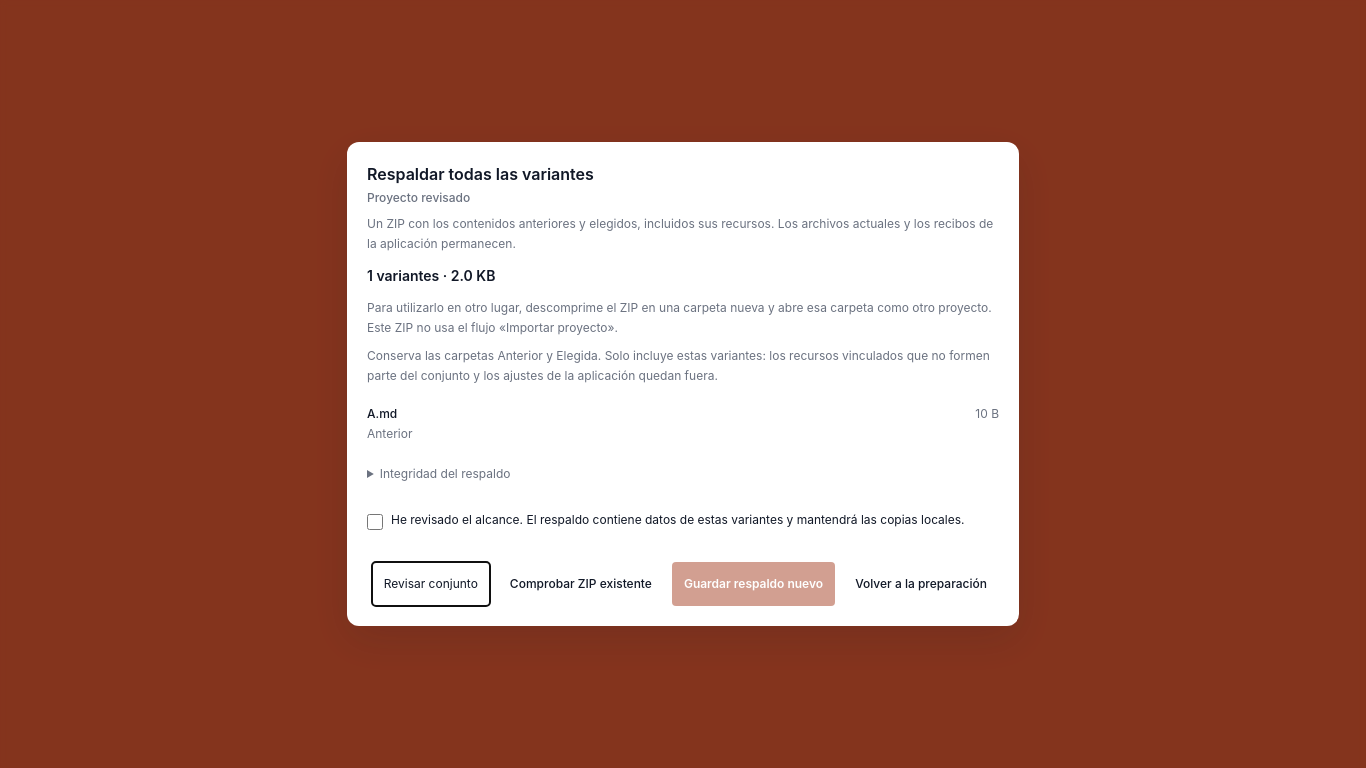
Test: requires scope acknowledgement, explains portability and verifies an uncertain export explicitly
Expected: the text "A.md" is shown, left=367, top=406, right=397, bottom=421
Expected: the text "Proyecto revisado" is shown, left=367, top=190, right=470, bottom=205
Click the checkbox.
click(375, 522)  # box left=367, top=514, right=383, bottom=530
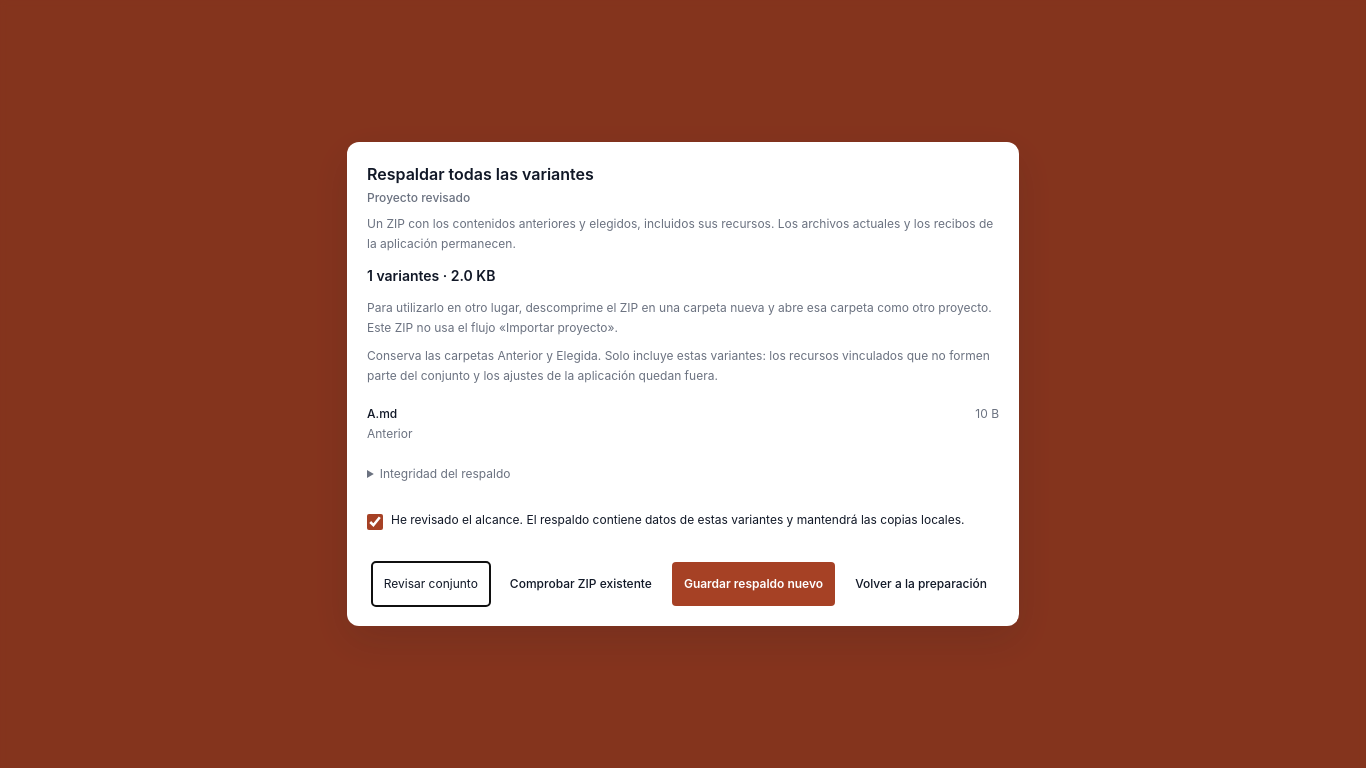
Click the button "Guardar respaldo nuevo".
click(754, 584)  # box left=672, top=562, right=835, bottom=606
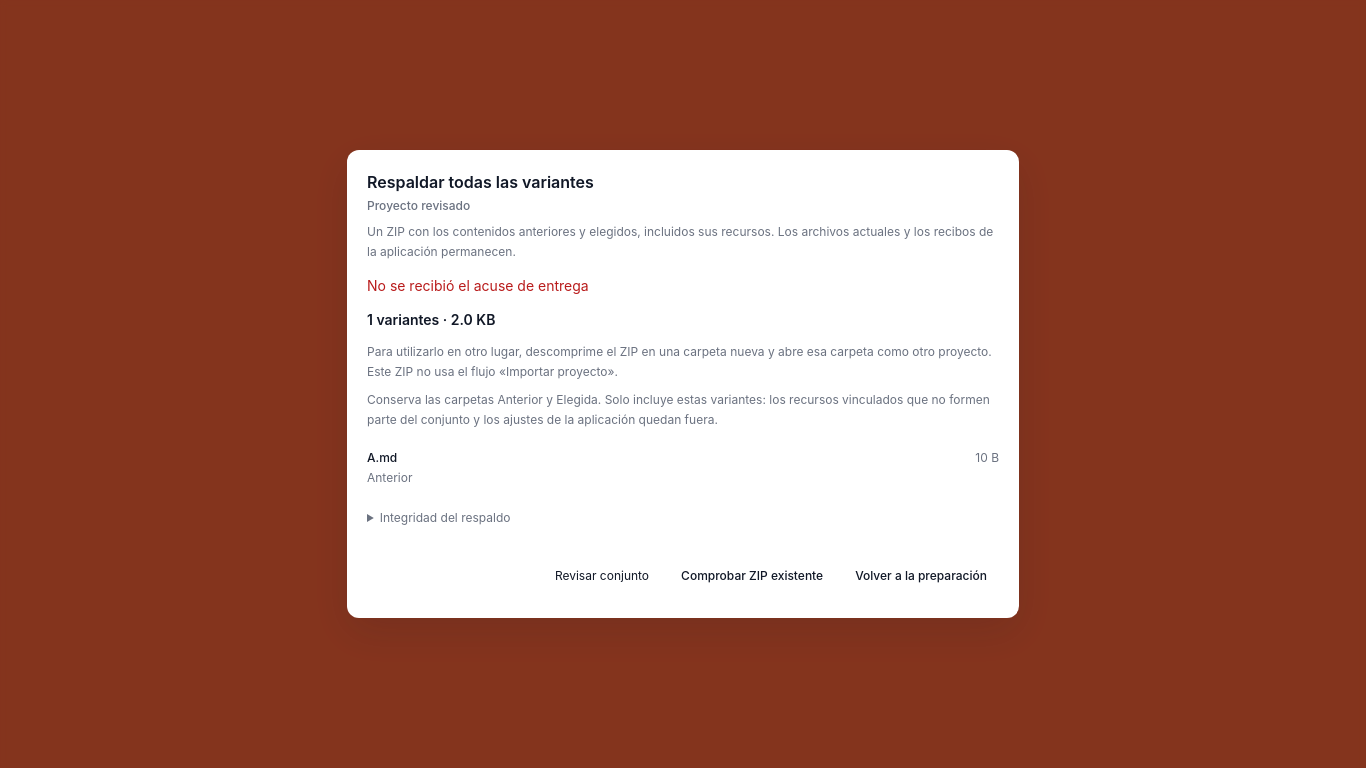
Expected: the message "No se recibió el acuse de entrega" is shown, left=367, top=277, right=589, bottom=294
Expected: the button "Guardar respaldo nuevo" is gone
Click the button "Comprobar ZIP existente".
click(752, 576)  # box left=669, top=554, right=835, bottom=598
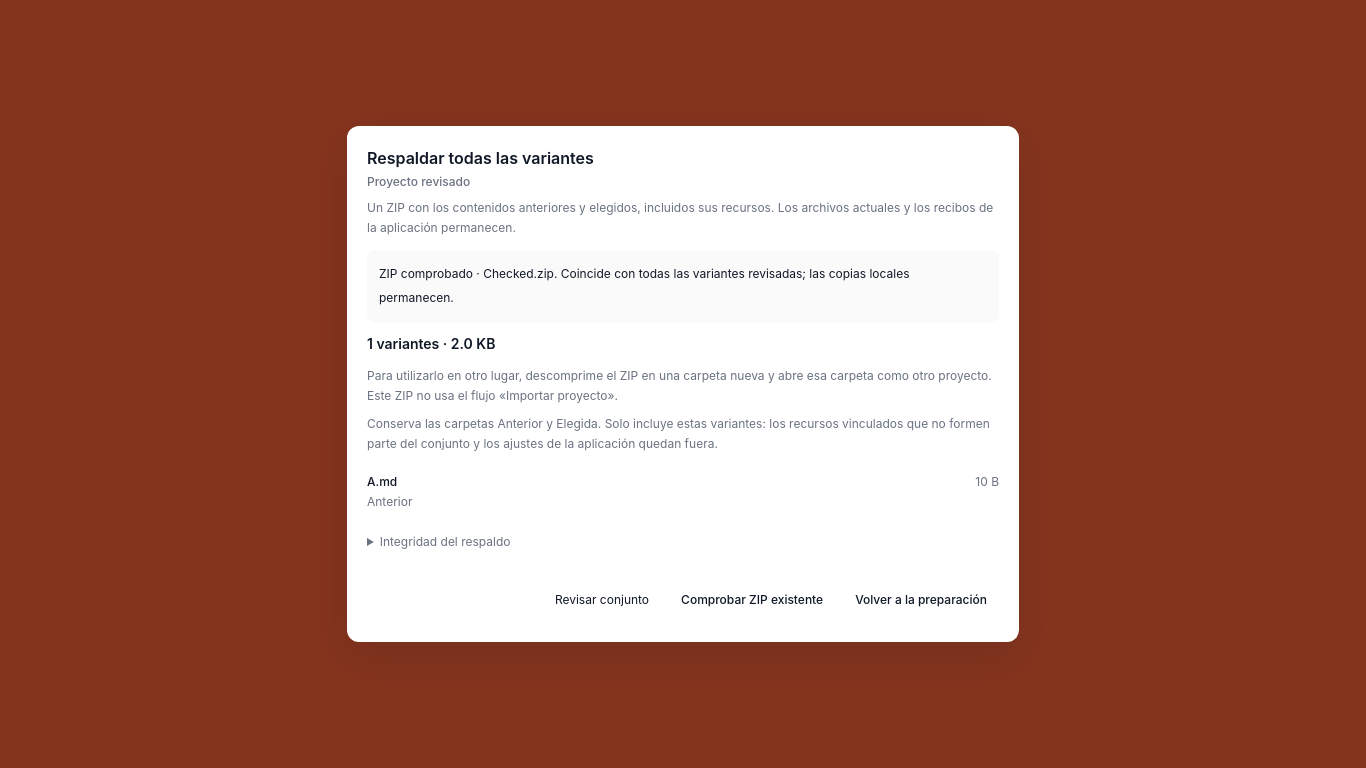
Expected: the text "ZIP comprobado" is shown, left=379, top=266, right=910, bottom=305
